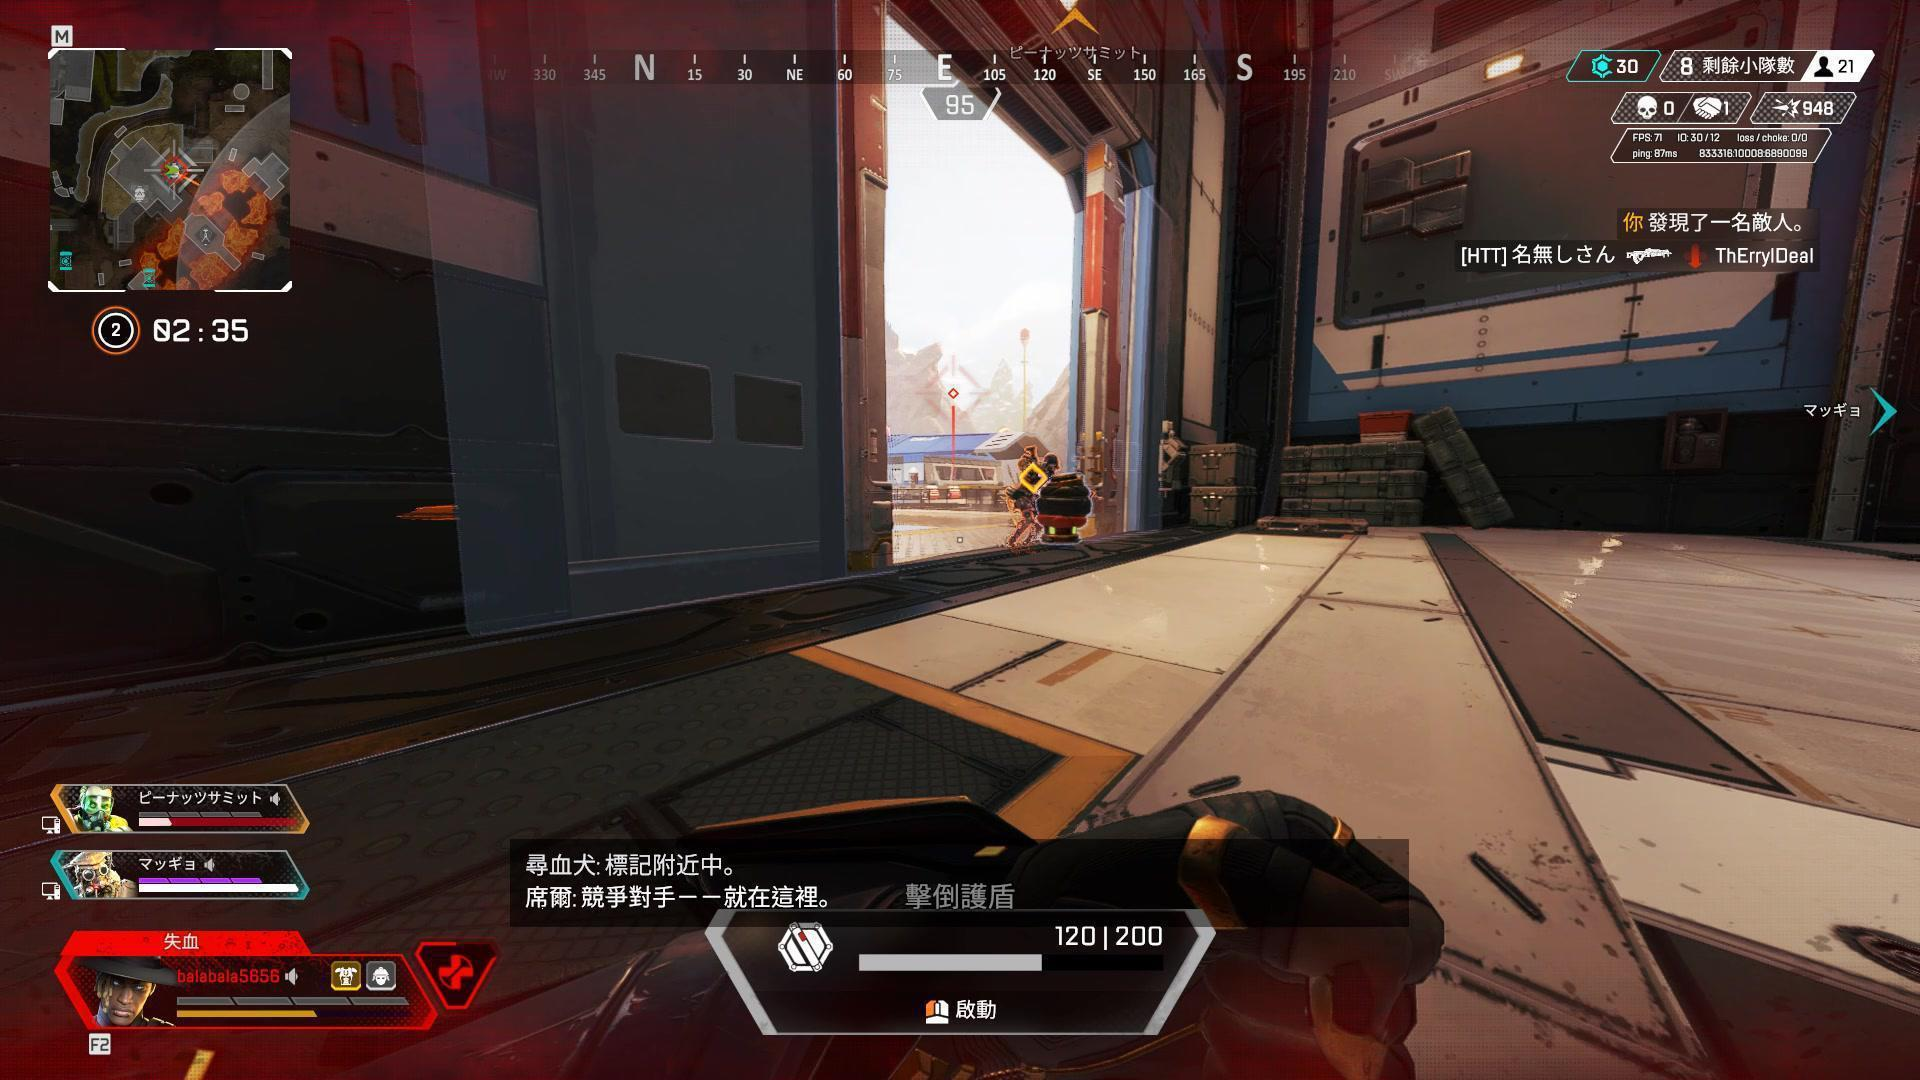avatar: (1008, 453, 1063, 551)
object: (1017, 460, 1049, 497)
